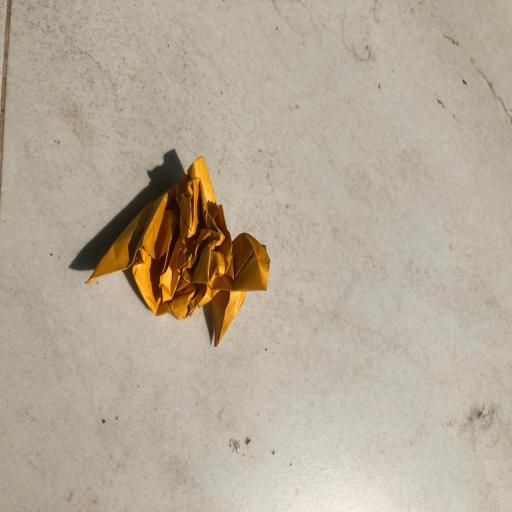waste: (78, 146, 280, 356)
